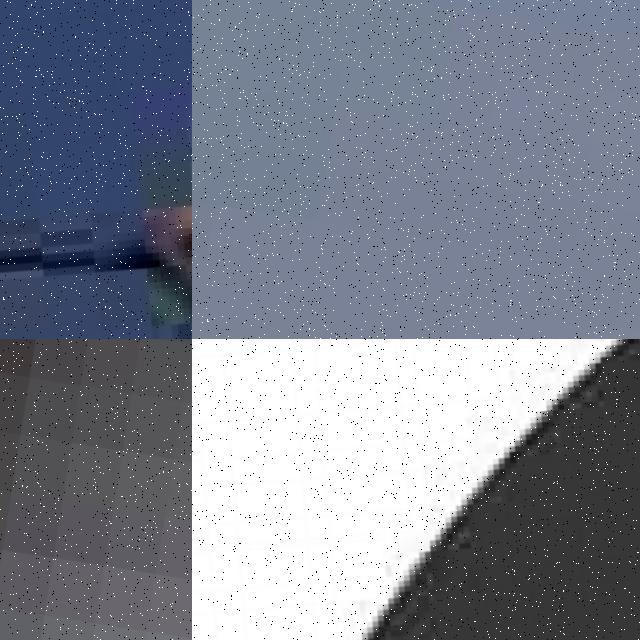0: (0, 0, 192, 339)
drone: (192, 339, 640, 640)
